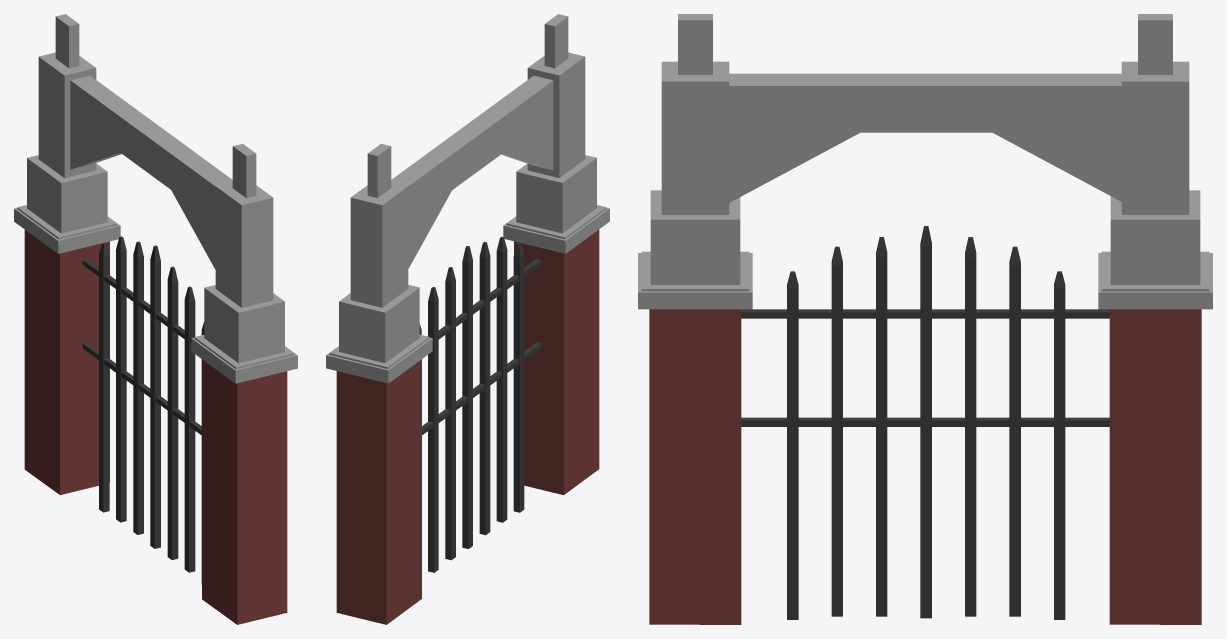
Rendered from ParkEntrance.fbx.
The picture shows the model from 3 angles, left to right: view 1: azimuth 30°, elevation 25°; view 2: azimuth 150°, elevation 25°; view 3: azimuth 270°, elevation 25°; orthographic projection. The views are drawn at different scales.
Visible parts, largest first — view 1: Cube.002; view 2: Cube.002; view 3: Cube.002.
Part boxes in pixels (x1=…): Cube.002: x1=14, y1=14, x2=297, y2=624; Cube.002: x1=326, y1=14, x2=609, y2=624; Cube.002: x1=638, y1=14, x2=1212, y2=624.
Size of the model in its own units: 129 by 915 by 793.
